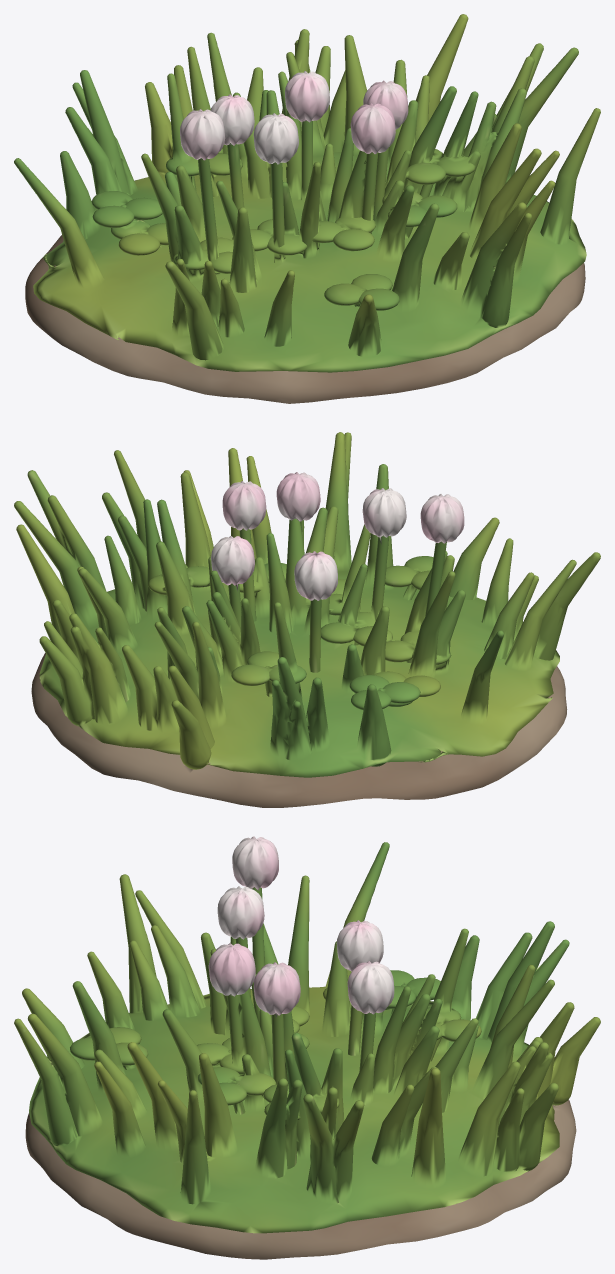
The model's file is grass-turf4.glb.
3 views of the same model, one above another, from view 1: azimuth 30°, elevation 25°; view 2: azimuth 150°, elevation 25°; view 3: azimuth 270°, elevation 25° (orthographic). The views are drawn at different scales.
Visible parts, largest first — view 1: body; view 2: body; view 3: body.
Part boxes in pixels (box(x1,y1,x2,y2)): body: box(14, 14, 600, 403); body: box(14, 432, 600, 807); body: box(14, 836, 600, 1259).
Size of the model in its own units: 0.6473 by 0.2648 by 0.6005.
